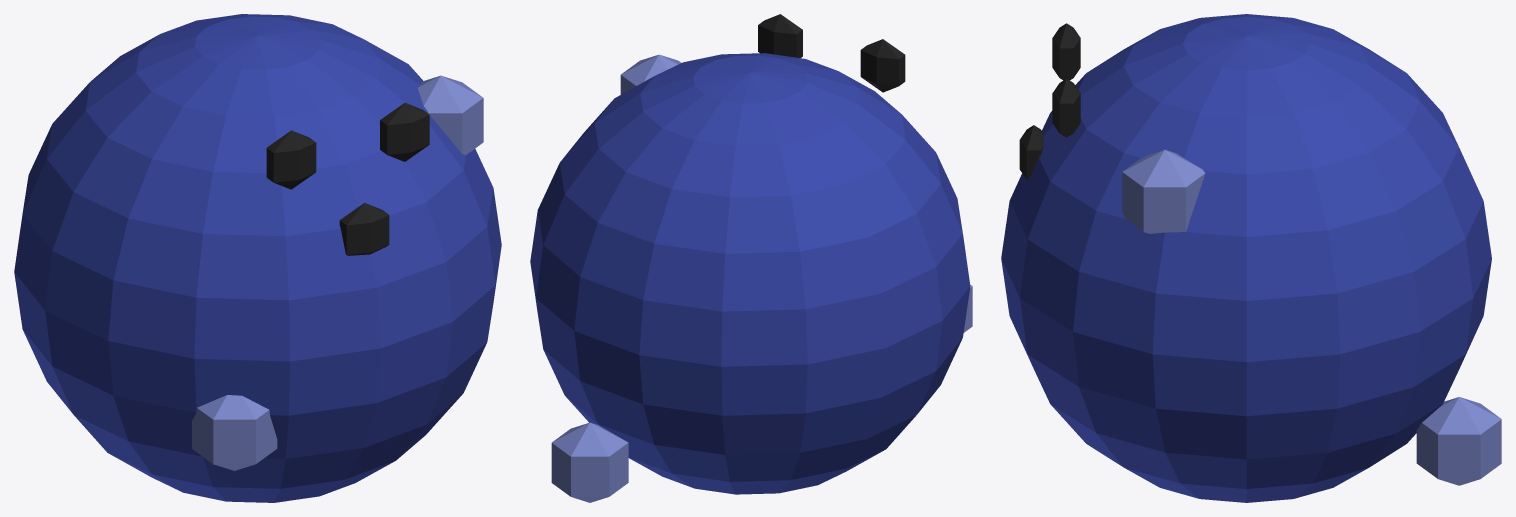
The model's file is bowlingklot.glb.
3 views of the same model, side by side, from view 1: azimuth 30°, elevation 25°; view 2: azimuth 150°, elevation 25°; view 3: azimuth 270°, elevation 25° (orthographic). The views are drawn at different scales.
Parts seen in each view (by area): view 1: bowlingklot; view 2: bowlingklot; view 3: bowlingklot.
Boxes of the visible parts, x1,y1,x2,y2 form: bowlingklot: (14, 14, 501, 502); bowlingklot: (530, 14, 972, 502); bowlingklot: (1001, 14, 1501, 502).
Bounding box in the file's own units: 0.3 × 0.3 × 0.306.
